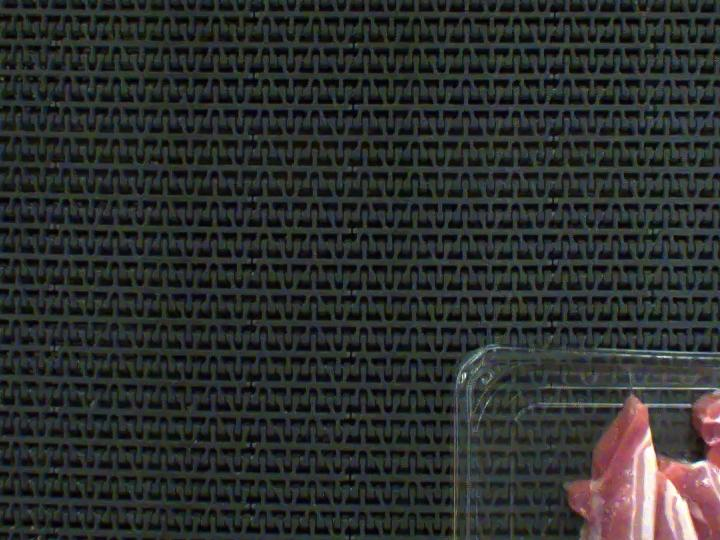packaging-error: (616, 351, 720, 417)
